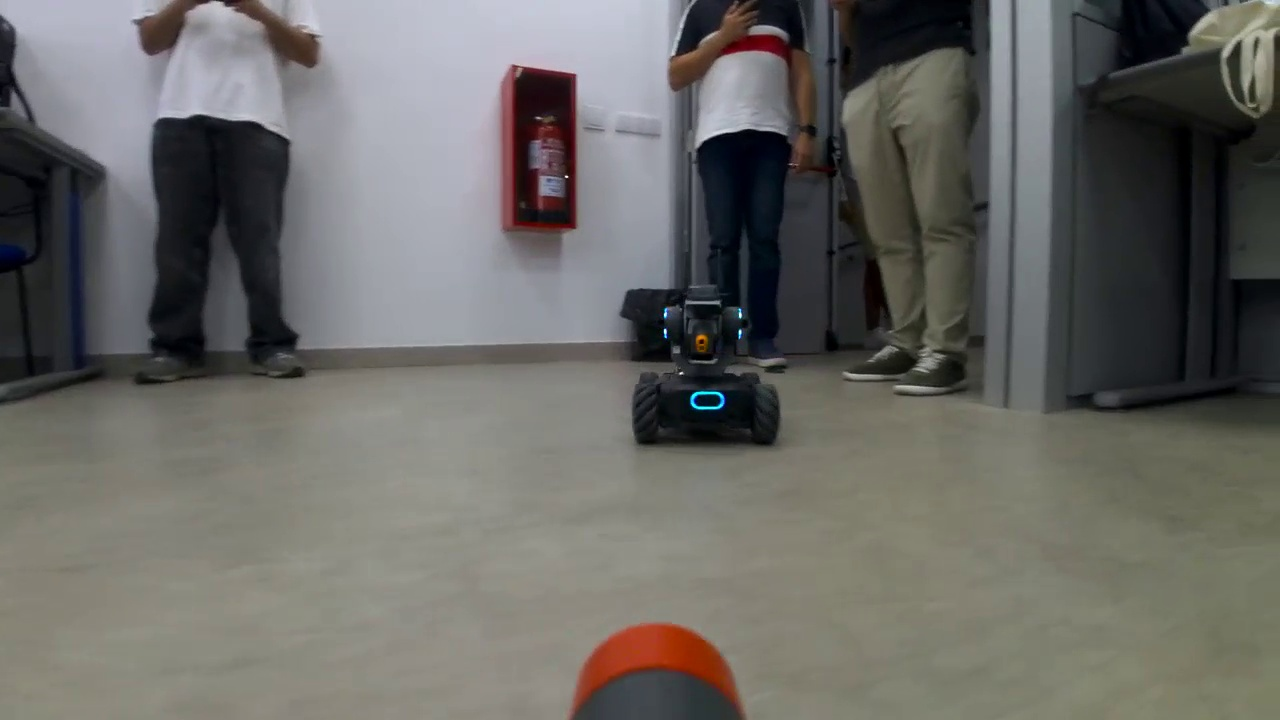robot: (621, 282, 786, 447)
